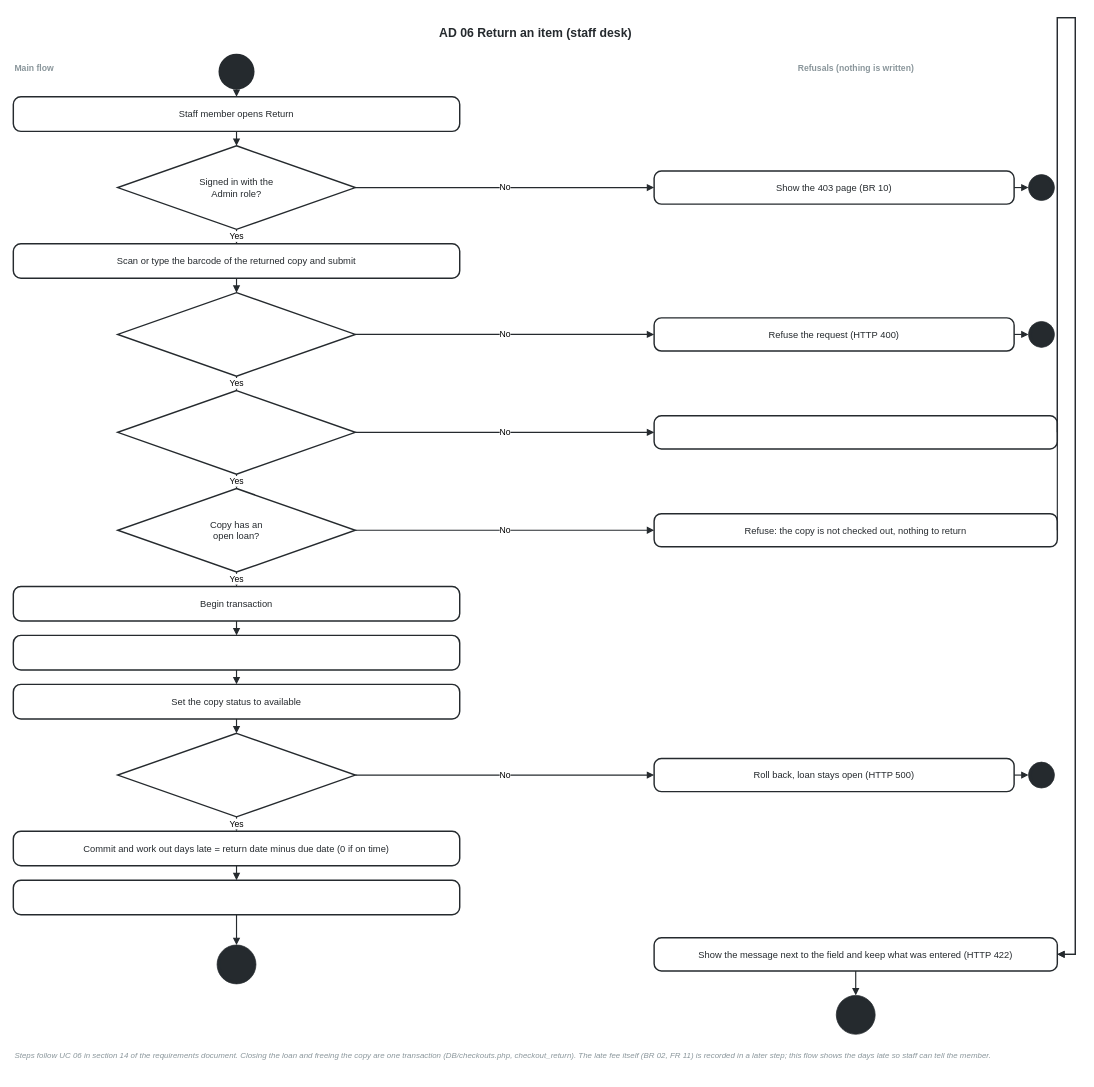
This 1094x1087 diagram has some shape labels left out. Each missing label, with the centre of its shape:
Barcode matches a copy?: the point at 236,432
Both writes succeed?: the point at 236,774
Close the loan: Check_In_Date = today, Checkin_Emp_ID = staff account: the point at 236,652
Form token valid?: the point at 236,334
Redirect (HTTP 303) and show the confirmation with the days late: the point at 236,897
Refuse: no copy has that barcode: the point at 855,432
